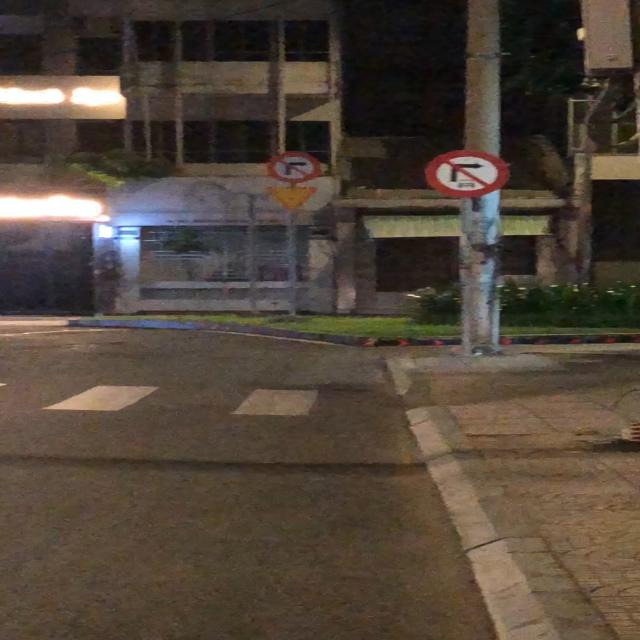Bien bao cam re phai: (266, 151, 324, 182)
Bien bao cam xe o to re phai: (422, 149, 514, 199)
Bien bao giao nhau voi duong uu tien: (264, 185, 320, 212)
